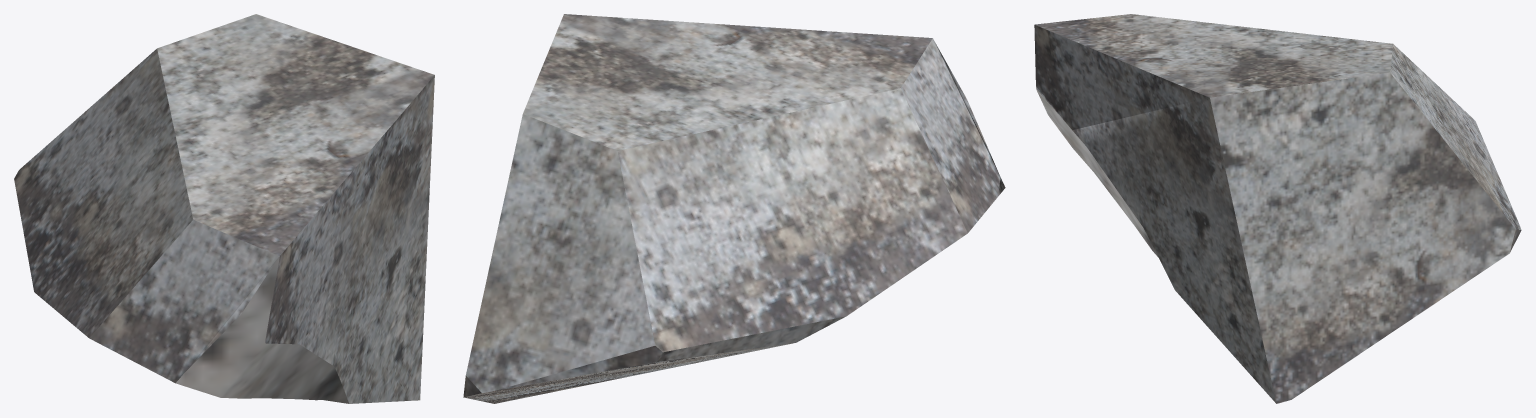
File: Asteroid_Large_001_02_007_03_019.fbx
The picture shows the model from 3 angles, left to right: view 1: azimuth 30°, elevation 25°; view 2: azimuth 150°, elevation 25°; view 3: azimuth 270°, elevation 25°; orthographic projection. The views are drawn at different scales.
Parts seen in each view (by area): view 1: Asteroid_Large_001_02_007_03_019; view 2: Asteroid_Large_001_02_007_03_019; view 3: Asteroid_Large_001_02_007_03_019.
Boxes of the visible parts, <box> form: Asteroid_Large_001_02_007_03_019: <box>14,14,434,403</box>; Asteroid_Large_001_02_007_03_019: <box>463,14,1005,403</box>; Asteroid_Large_001_02_007_03_019: <box>1034,14,1521,403</box>.
Bounding box in the file's own units: 8.22 × 7.07 × 10.55.
